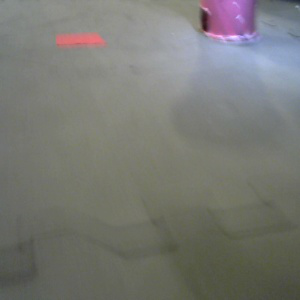right: (192, 1, 267, 44), (193, 1, 265, 41)
